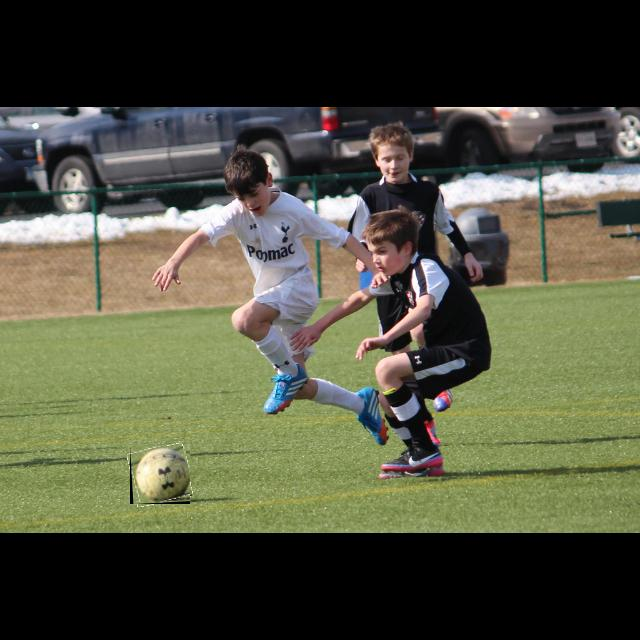Football: (130, 446, 190, 504)
